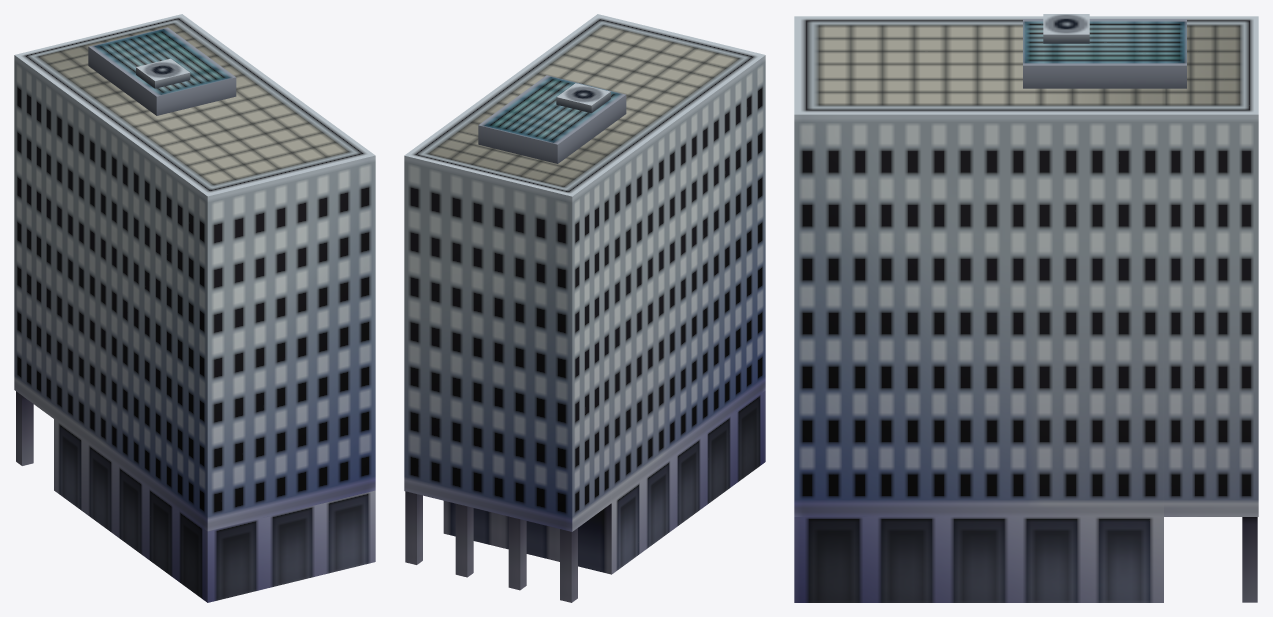
Rendered from office_block.fbx.
3 renders of one model, left to right at view 1: azimuth 30°, elevation 25°; view 2: azimuth 150°, elevation 25°; view 3: azimuth 270°, elevation 25°, orthographic. The views are drawn at different scales.
Parts seen in each view (by area): view 1: office_block1; view 2: office_block1; view 3: office_block1.
Boxes of the visible parts, x1,y1,x2,y2 form: office_block1: (14,14,375,602); office_block1: (404,14,765,602); office_block1: (794,14,1258,602).
Bounding box in the file's own units: 4.53 × 11.18 × 9.04.
